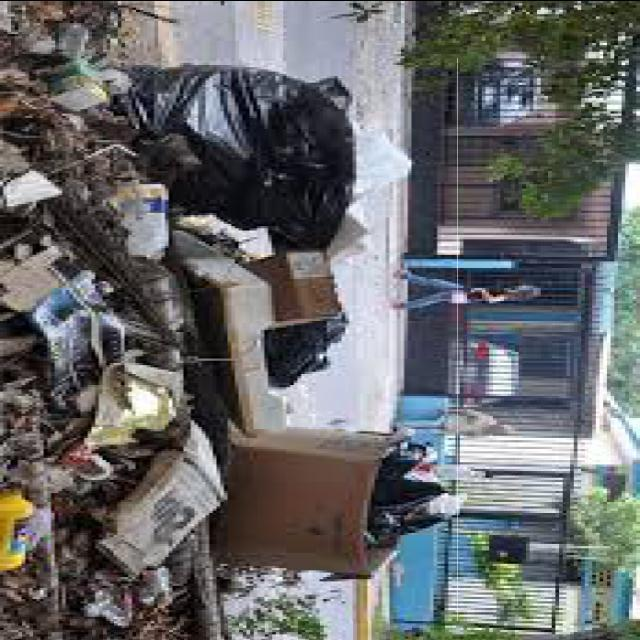Trashbag: (121, 57, 360, 258)
